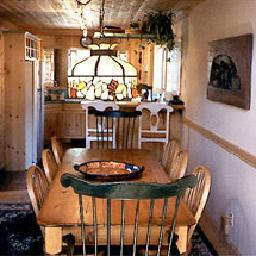Electrodomestico: (30, 58, 45, 164)
